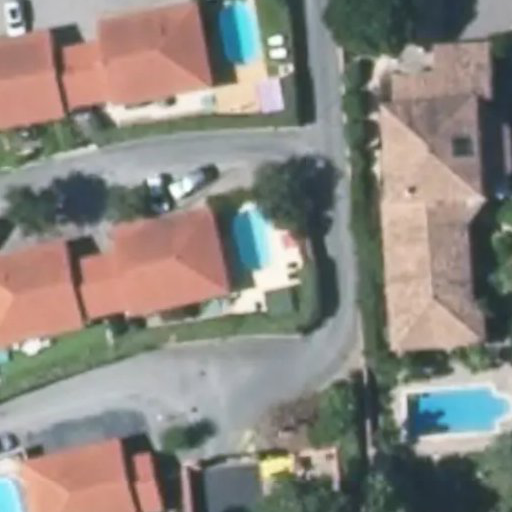pool: (234, 215, 277, 268)
